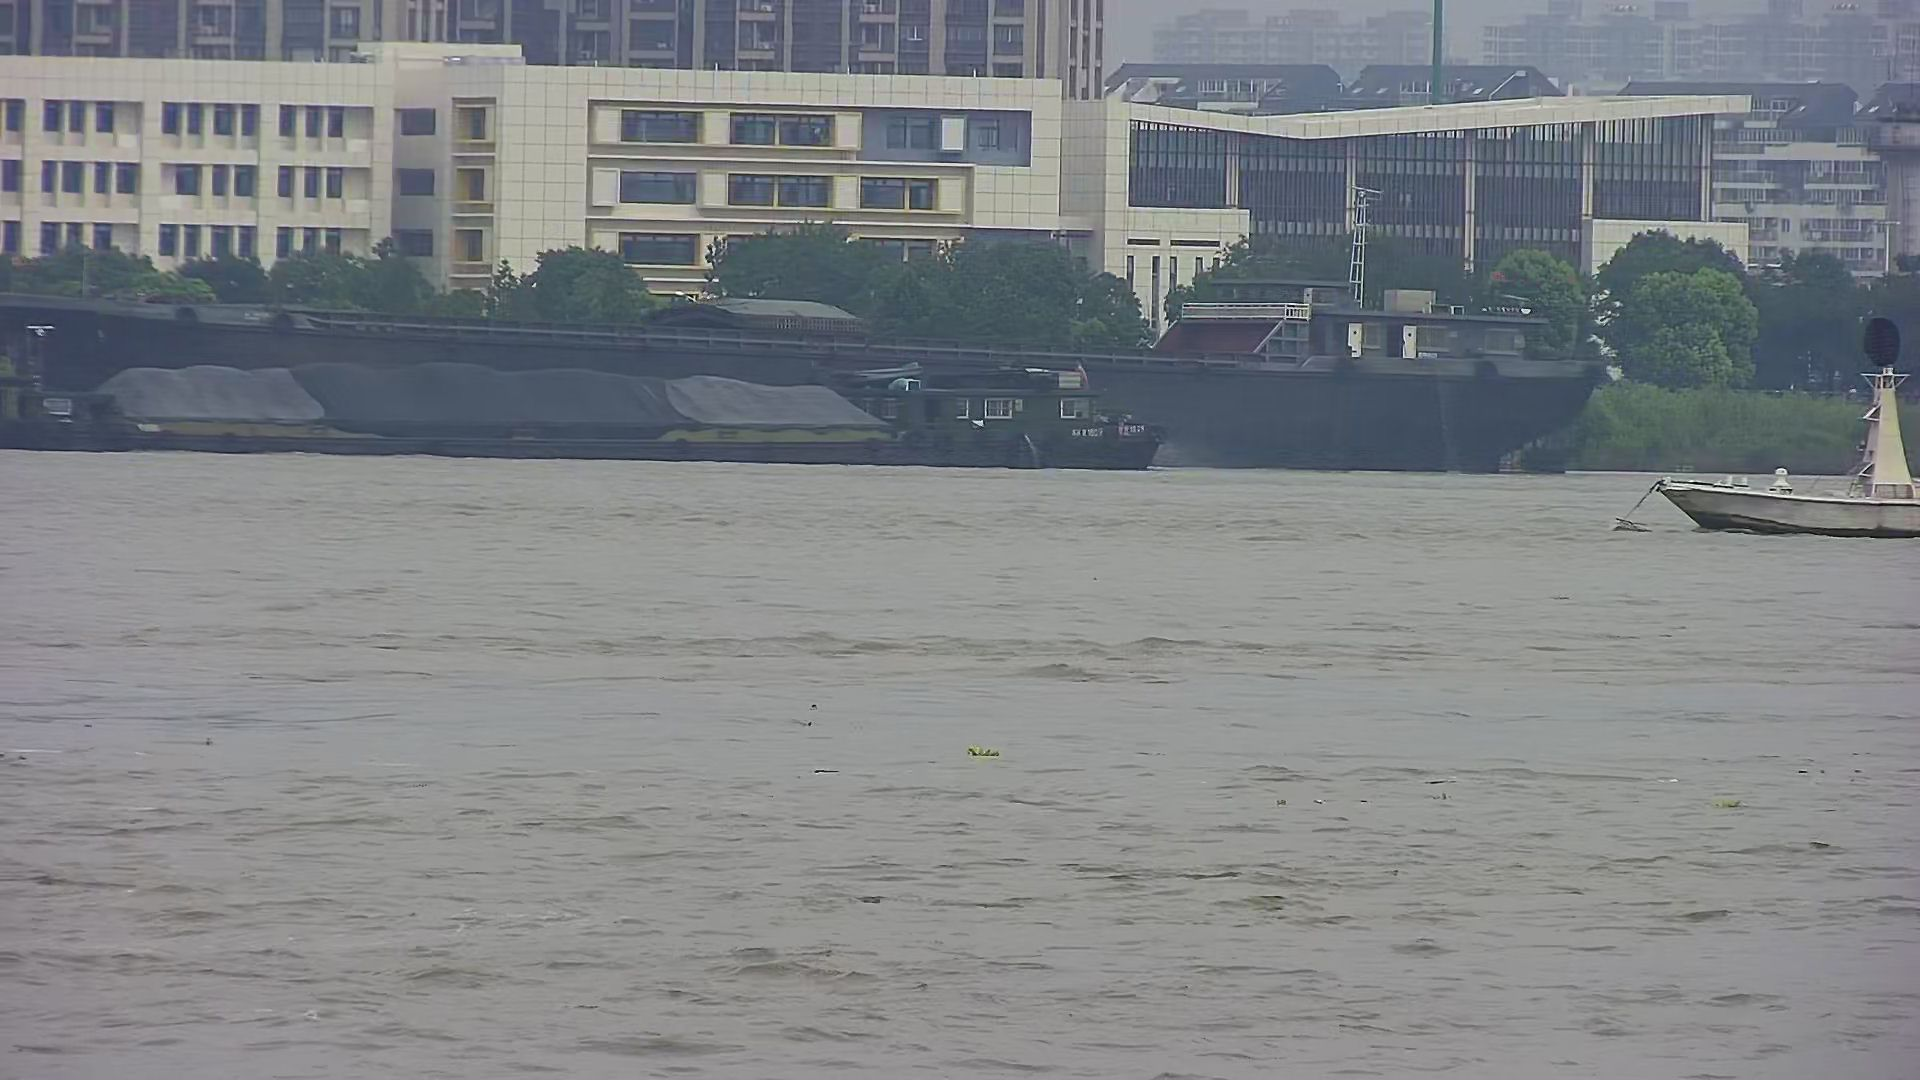boat: (1646, 311, 1916, 542)
ship: (1, 178, 1613, 476), (1, 326, 1178, 473)
